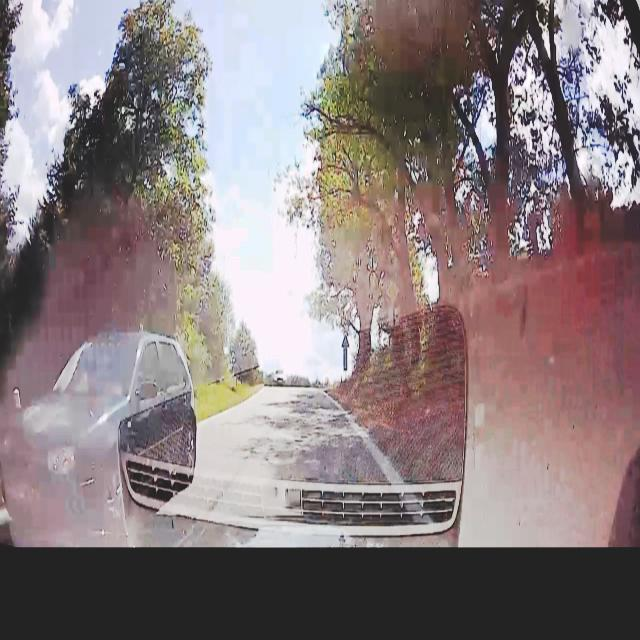Priority road: (386, 279, 401, 304)
